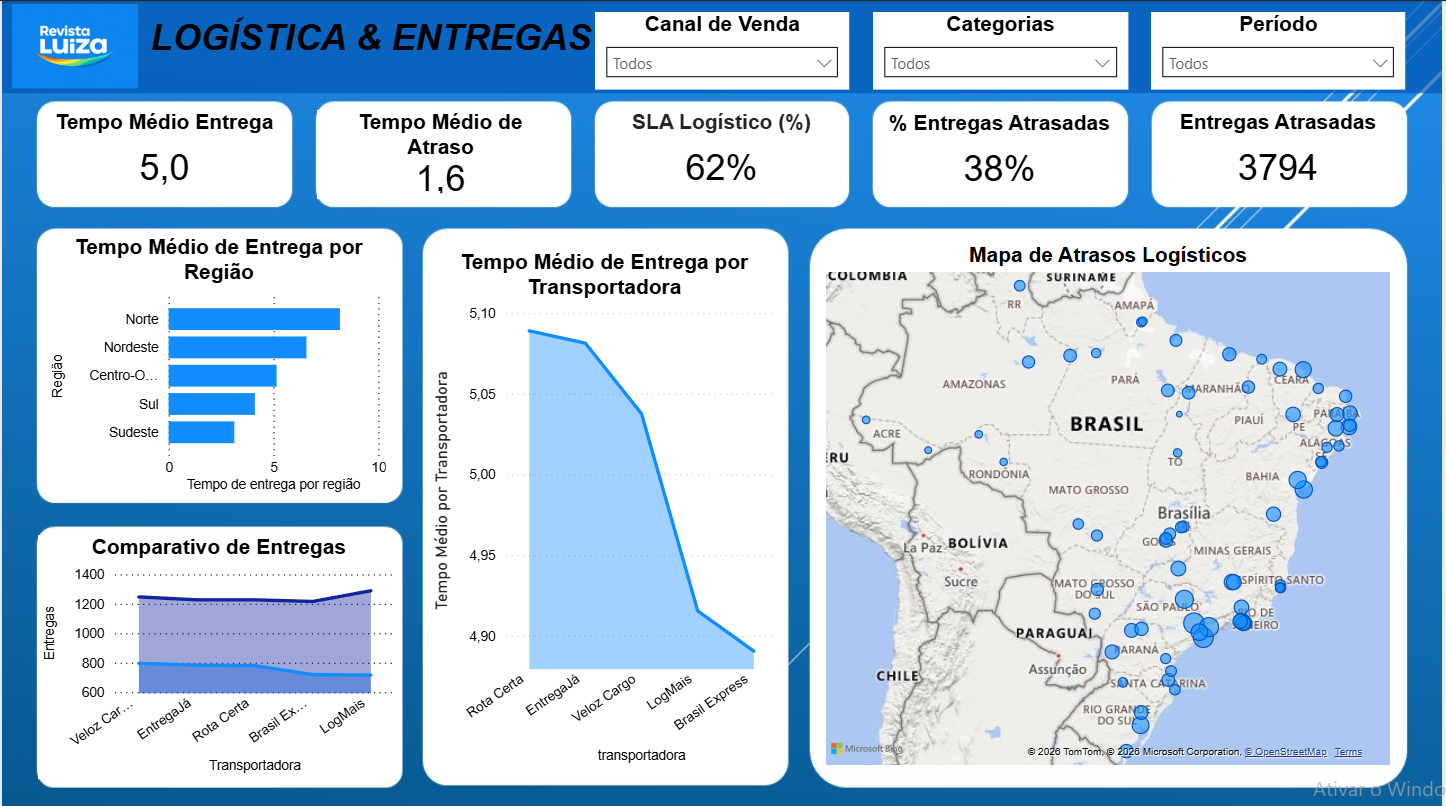

Layout of this report page (visuals, bound fields, positions):
{"tool":"powerbi","page":{"name":"LOGÍSTICA & ENTREGAS","canvas":[1280,720],"ordinal":3},"visuals":[{"type":"card","title":"SLA Logístico (%)","fields":{"Values":["Pedidos por Cliente.SLA Logístico (%)"]},"box":[534.2,96.8,210.6,79.6],"z":0},{"type":"card","title":"Tempo Médio Entrega","fields":{"Values":["entregas.Tempo Médio Entrega (dias)"]},"box":[39.3,96.8,210.6,79.6],"z":1000},{"type":"card","title":"Entregas Atrasadas","fields":{"Values":["entregas.Entregas Atrasadas"]},"box":[1029,96.8,209.6,79.6],"z":2000},{"type":"card","title":"Tempo Médio de Atraso","fields":{"Values":["Pedidos por Cliente.Dias Médios de Atraso"]},"box":[280.2,96.8,219.7,78.6],"z":3000},{"type":"card","title":"% Entregas Atrasadas","fields":{"Values":["entregas.% Entregas Atrasadas"]},"box":[781.1,97.8,210.6,78.6],"z":4000},{"type":"clusteredBarChart","title":"Tempo Médio de Entrega por Região","fields":{"Category":["clientes.regiao"],"Y":["Pedidos por Cliente.Tempo Entrega por Região (dias)"]},"box":[39.3,207.6,307.4,233.8],"z":5000},{"type":"areaChart","title":"Tempo Médio de Entrega por Transportadora","fields":{"Category":["entregas.transportadora"],"Y":["Pedidos por Cliente.Tempo Médio por Transportadora"]},"box":[378,221.7,315.5,461.6],"z":6000},{"type":"areaChart","title":"Comparativo de Entregas","fields":{"Category":["entregas.transportadora"],"Y":["entregas.Entregas Atrasadas","entregas.Entregas no Prazo"]},"box":[32.3,474.7,321.5,216.7],"z":7000},{"type":"shape","box":[0,0,1280,82.2],"z":8000},{"type":"slicer","title":"Período","fields":{"Values":["pedidos.data_pedido.Variation.Hierarquia de datas.Ano","pedidos.data_pedido.Variation.Hierarquia de datas.Mês"]},"box":[1021.6,10,226.5,68.8],"z":9000},{"type":"image","box":[8,3,114.7,74.8],"z":10000},{"type":"slicer","title":"Categorias","fields":{"Values":["categorias.categoria_nome"]},"box":[774,10.1,226.8,68.5],"z":11000},{"type":"textbox","box":[109.9,10.1,426.3,67.5],"z":12000},{"type":"map","title":"Mapa de Atrasos Logísticos","fields":{"Category":["clientes.cidade"],"Size":["Sum(entregas.dias_atraso)"]},"box":[726.7,214.7,512,468.7],"z":13000},{"type":"slicer","title":"Canal de Venda","fields":{"Values":["pedidos.canal_venda"]},"box":[526.8,10,226.5,68.8],"z":14000}]}

Visuals, with their boxes in screenshot pixels (x1, y1, x2, y2), scaled from the page's 1280x720 canvas onto the 1446x806 screenshot:
"SLA Logístico (%)" card: [x1=603, y1=108, x2=841, y2=197]
"Tempo Médio Entrega" card: [x1=44, y1=108, x2=282, y2=197]
"Entregas Atrasadas" card: [x1=1162, y1=108, x2=1399, y2=197]
"Tempo Médio de Atraso" card: [x1=317, y1=108, x2=565, y2=196]
"% Entregas Atrasadas" card: [x1=882, y1=109, x2=1120, y2=197]
"Tempo Médio de Entrega por Região" clusteredBarChart: [x1=44, y1=232, x2=392, y2=494]
"Tempo Médio de Entrega por Transportadora" areaChart: [x1=427, y1=248, x2=783, y2=765]
"Comparativo de Entregas" areaChart: [x1=36, y1=531, x2=400, y2=774]
shape: [x1=0, y1=0, x2=1445, y2=92]
"Período" slicer: [x1=1154, y1=11, x2=1410, y2=88]
image: [x1=9, y1=3, x2=139, y2=87]
"Categorias" slicer: [x1=874, y1=11, x2=1131, y2=88]
textbox: [x1=124, y1=11, x2=606, y2=87]
"Mapa de Atrasos Logísticos" map: [x1=821, y1=240, x2=1399, y2=765]
"Canal de Venda" slicer: [x1=595, y1=11, x2=851, y2=88]
